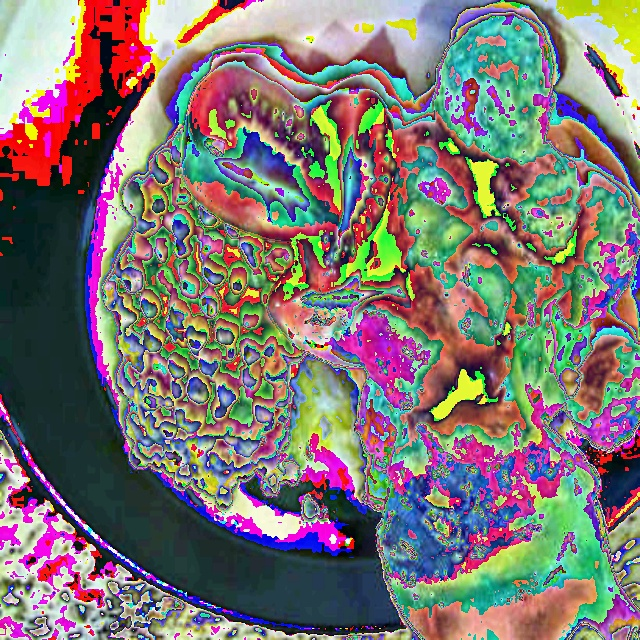background: (100, 15, 639, 633)
